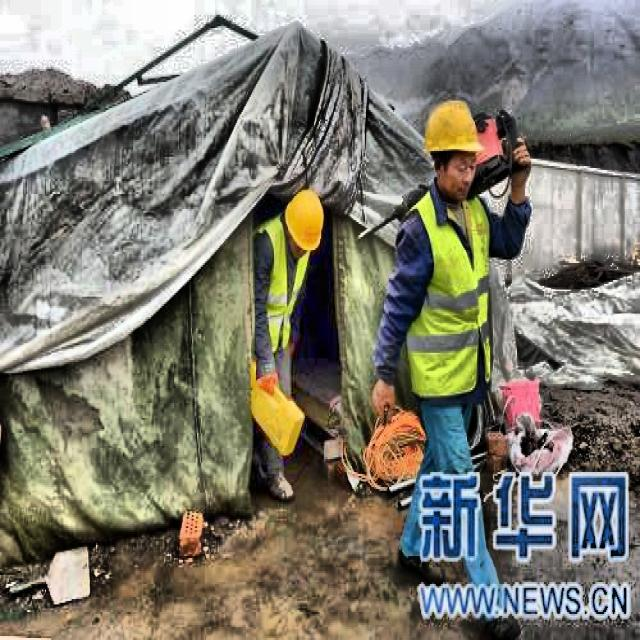helmet: (420, 91, 484, 206), (283, 187, 329, 256)
